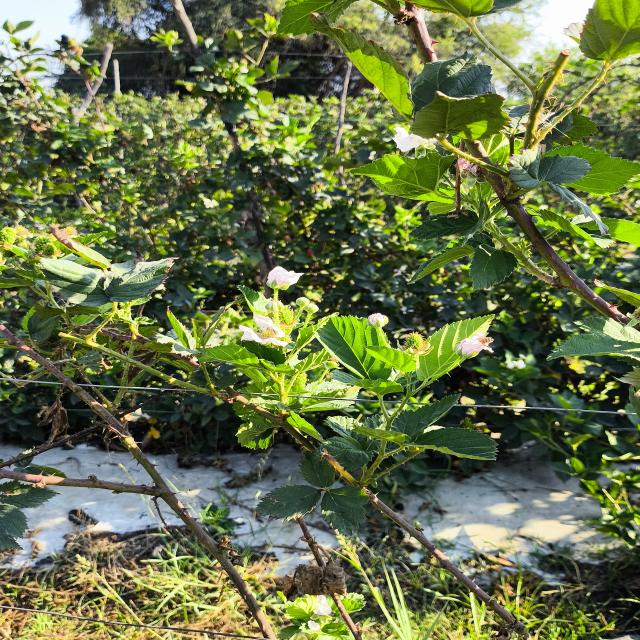boton: (367, 313, 389, 328), (266, 299, 282, 311), (305, 303, 319, 314), (296, 297, 311, 307)
flor: (240, 313, 288, 347), (267, 266, 303, 289)
